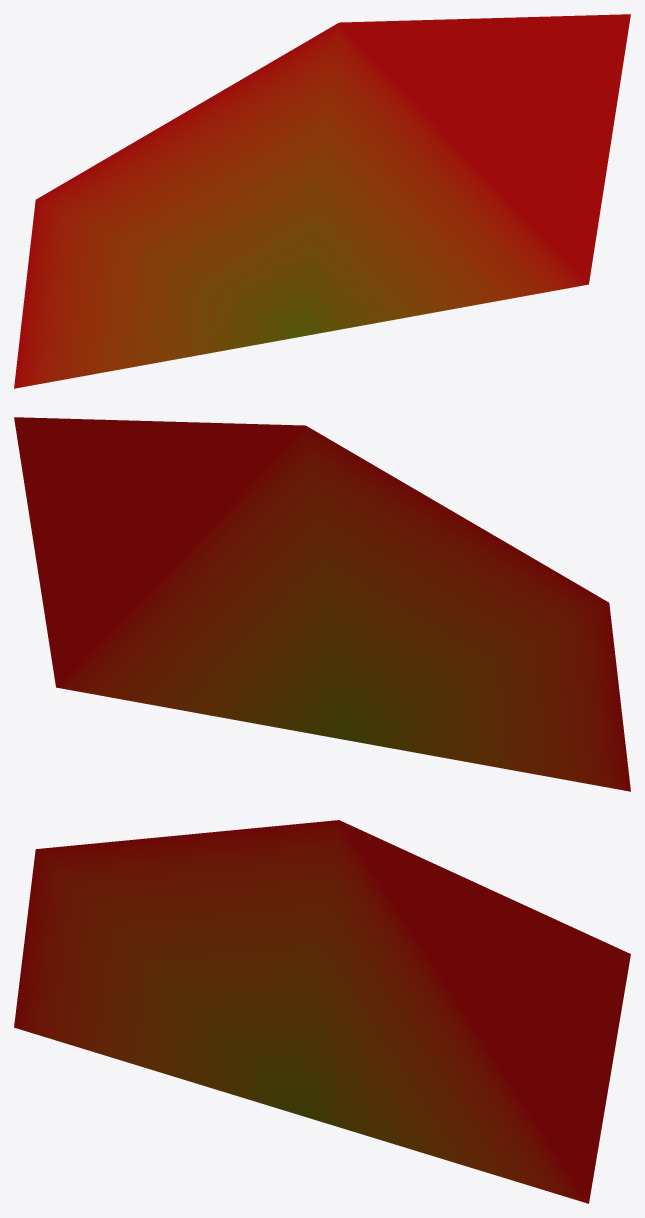
Rendered from Var5_LOD3.fbx.
The picture shows the model from 3 angles, top to bottom: view 1: azimuth 30°, elevation 25°; view 2: azimuth 150°, elevation 25°; view 3: azimuth 330°, elevation 25°; orthographic projection.
Parts seen in each view (by area): view 1: _f496_Var5_LOD3; view 2: _f496_Var5_LOD3; view 3: _f496_Var5_LOD3.
Part boxes in pixels (x1=…): _f496_Var5_LOD3: x1=14, y1=14, x2=630, y2=388; _f496_Var5_LOD3: x1=14, y1=417, x2=630, y2=791; _f496_Var5_LOD3: x1=14, y1=820, x2=630, y2=1203.
Bounding box in the file's own units: 167 × 83.57 × 3.71e-05.
